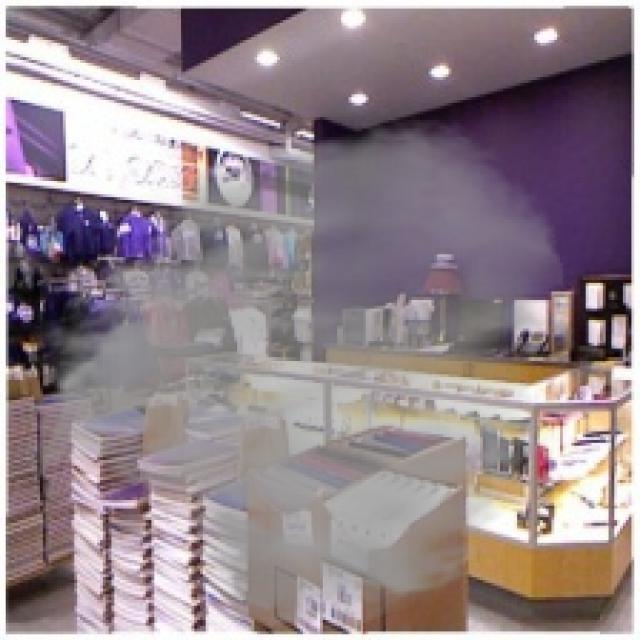Smoke: (17, 115, 569, 634)
